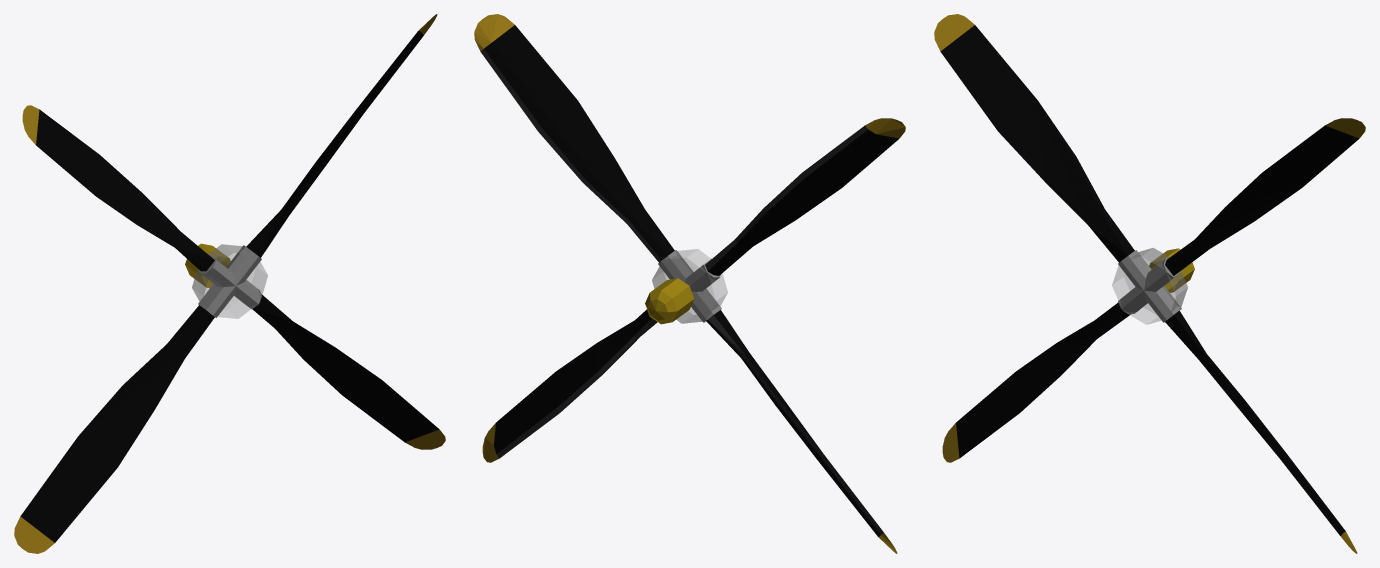
Rendered from Prop_F4U.obj.
The picture shows the model from 3 angles, left to right: view 1: azimuth 30°, elevation 25°; view 2: azimuth 150°, elevation 25°; view 3: azimuth 330°, elevation 25°; orthographic projection.
Visible parts, largest first — view 1: ShapeIndexedFaceSet.143_ShapeIndexedFaceSet.144, ShapeIndexedFaceSet.144_ShapeIndexedFaceSet.145, ShapeIndexedFaceSet.146_ShapeIndexedFaceSet.147, ShapeIndexedFaceSet.186_ShapeIndexedFaceSet, ShapeIndexedFaceSet.089_ShapeIndexedFaceSet.090; view 2: ShapeIndexedFaceSet.143_ShapeIndexedFaceSet.144, ShapeIndexedFaceSet.145_ShapeIndexedFaceSet.146, ShapeIndexedFaceSet.186_ShapeIndexedFaceSet, ShapeIndexedFaceSet.146_ShapeIndexedFaceSet.147, ShapeIndexedFaceSet.144_ShapeIndexedFaceSet.145, ShapeIndexedFaceSet.089_ShapeIndexedFaceSet.090; view 3: ShapeIndexedFaceSet.143_ShapeIndexedFaceSet.144, ShapeIndexedFaceSet.144_ShapeIndexedFaceSet.145, ShapeIndexedFaceSet.146_ShapeIndexedFaceSet.147, ShapeIndexedFaceSet.186_ShapeIndexedFaceSet, ShapeIndexedFaceSet.089_ShapeIndexedFaceSet.090.
Part boxes in pixels (<box>): ShapeIndexedFaceSet.143_ShapeIndexedFaceSet.144: <box>20,31,438,542</box>; ShapeIndexedFaceSet.144_ShapeIndexedFaceSet.145: <box>198,245,261,317</box>; ShapeIndexedFaceSet.146_ShapeIndexedFaceSet.147: <box>14,14,445,553</box>; ShapeIndexedFaceSet.186_ShapeIndexedFaceSet: <box>192,244,267,318</box>; ShapeIndexedFaceSet.089_ShapeIndexedFaceSet.090: <box>185,243,230,288</box>; ShapeIndexedFaceSet.143_ShapeIndexedFaceSet.144: <box>484,25,898,536</box>; ShapeIndexedFaceSet.145_ShapeIndexedFaceSet.146: <box>480,49,883,534</box>; ShapeIndexedFaceSet.186_ShapeIndexedFaceSet: <box>652,249,727,323</box>; ShapeIndexedFaceSet.146_ShapeIndexedFaceSet.147: <box>474,14,905,553</box>; ShapeIndexedFaceSet.144_ShapeIndexedFaceSet.145: <box>658,250,721,322</box>; ShapeIndexedFaceSet.089_ShapeIndexedFaceSet.090: <box>645,278,693,324</box>; ShapeIndexedFaceSet.143_ShapeIndexedFaceSet.144: <box>940,25,1358,535</box>; ShapeIndexedFaceSet.144_ShapeIndexedFaceSet.145: <box>1118,250,1181,322</box>; ShapeIndexedFaceSet.146_ShapeIndexedFaceSet.147: <box>934,14,1365,553</box>; ShapeIndexedFaceSet.186_ShapeIndexedFaceSet: <box>1112,248,1187,324</box>; ShapeIndexedFaceSet.089_ShapeIndexedFaceSet.090: <box>1149,248,1194,292</box>.
Size of the model in its own units: 28.64 by 28.64 by 5.06.
